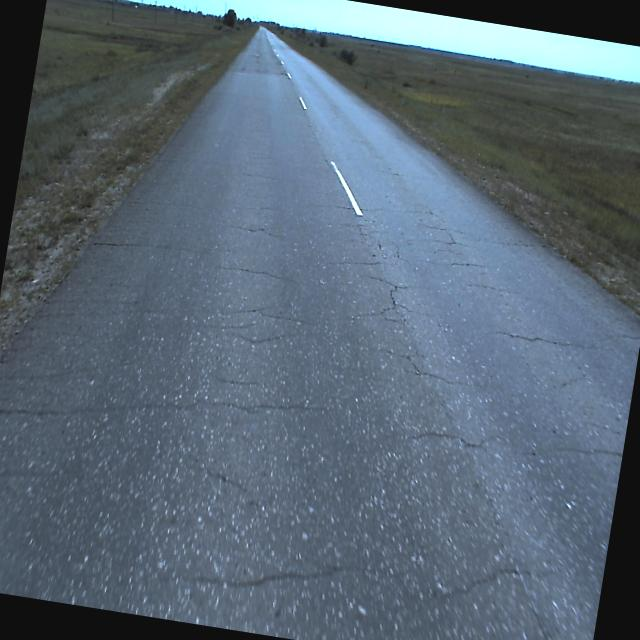road: (0, 27, 640, 640)
